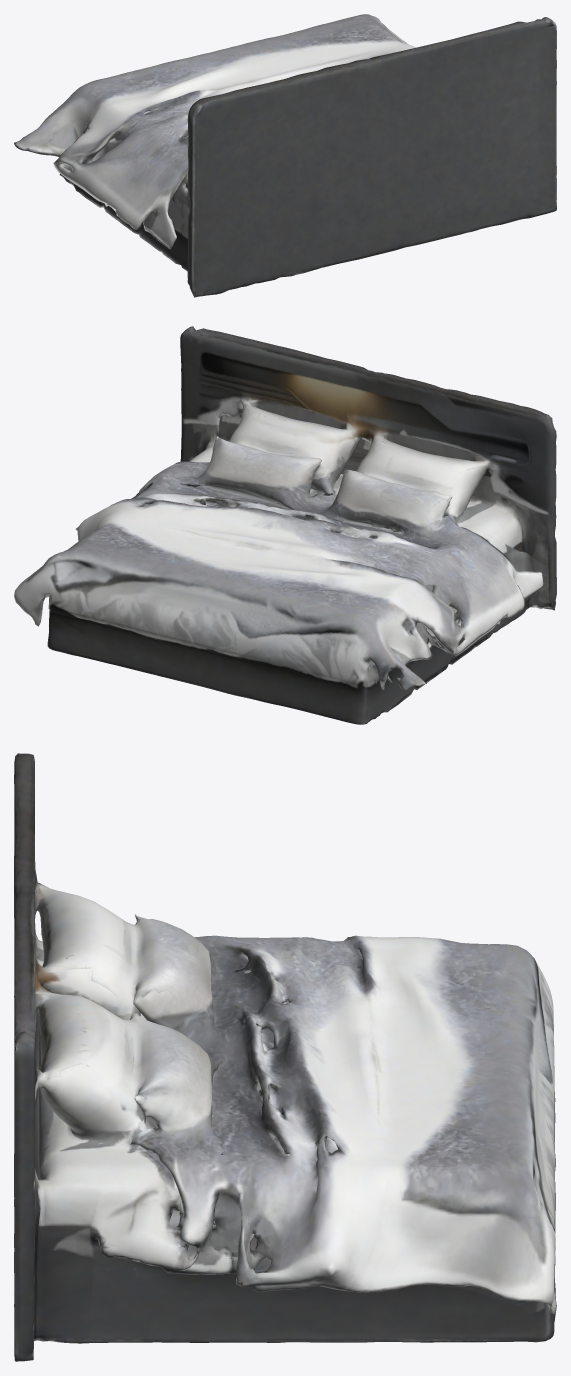
3 views of the same model, one above another, from view 1: azimuth 30°, elevation 25°; view 2: azimuth 150°, elevation 25°; view 3: azimuth 270°, elevation 25° (orthographic). The views are drawn at different scales.
Size of the model in its own units: 1.95 by 0.9034 by 1.37.
Materials: 1 (1 with a texture image).
